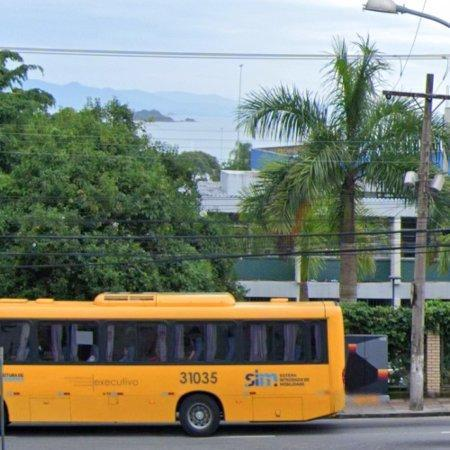buses: (0, 294, 346, 436)
